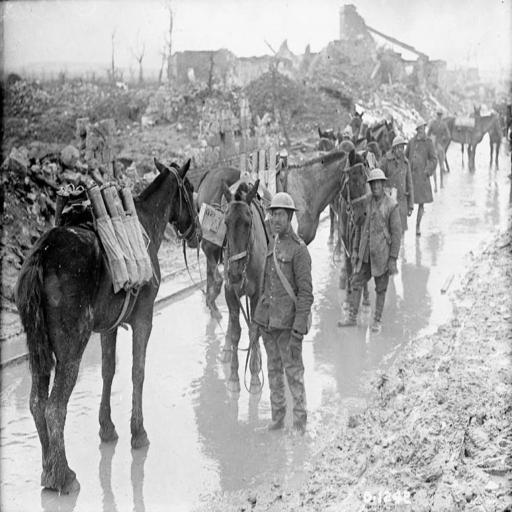horse: (13, 153, 203, 495), (195, 148, 368, 324), (220, 172, 274, 392), (444, 112, 502, 175), (318, 128, 348, 249), (361, 118, 400, 157), (488, 102, 506, 165), (462, 105, 482, 159), (346, 106, 362, 150)
